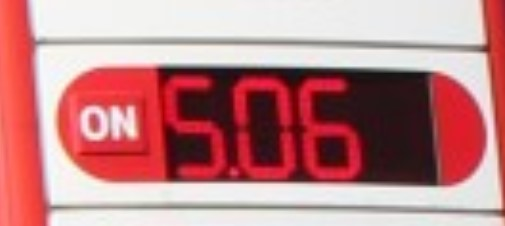digits: (295, 57, 366, 188), (160, 61, 233, 185), (231, 59, 296, 186)
